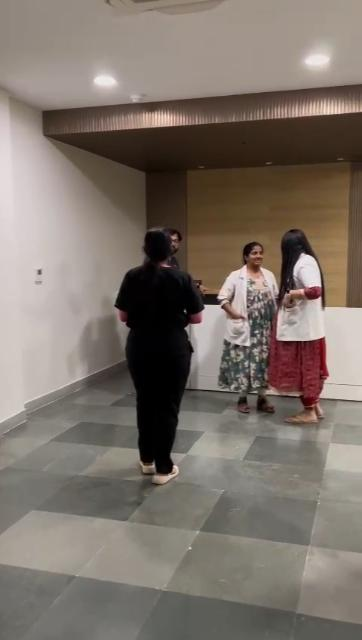floor: (0, 373, 362, 640)
moving-obj: (103, 213, 200, 502), (201, 247, 282, 415), (278, 218, 336, 424)
wall: (0, 86, 141, 421)
